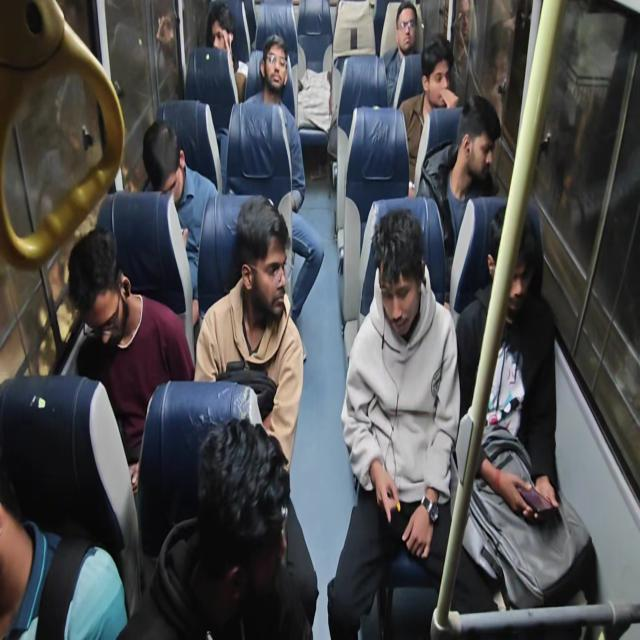person: (327, 207, 497, 638), (193, 195, 319, 636), (115, 416, 312, 639), (454, 202, 561, 610), (67, 225, 195, 493), (242, 34, 324, 324), (0, 473, 128, 638), (141, 118, 219, 327), (416, 94, 502, 255), (398, 33, 459, 191), (206, 1, 248, 103), (381, 1, 421, 108), (449, 0, 482, 105), (481, 20, 513, 126), (154, 5, 180, 101)
